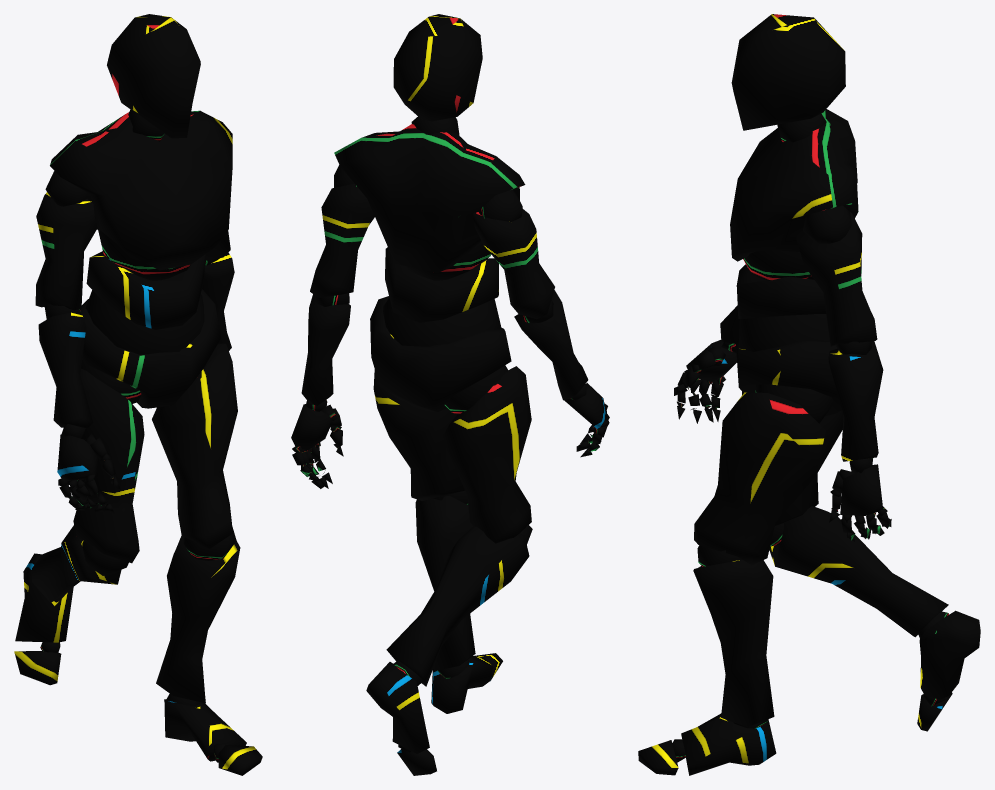
The model's file is y-bot-origin_000025.obj.
3 renders of one model, left to right at view 1: azimuth 30°, elevation 25°; view 2: azimuth 150°, elevation 25°; view 3: azimuth 270°, elevation 25°, orthographic. The views are drawn at different scales.
Parts seen in each view (by area): view 1: Alpha_Surface_Alpha_SurfaceMesh, Alpha_Joints_Alpha_JointsMesh; view 2: Alpha_Surface_Alpha_SurfaceMesh, Alpha_Joints_Alpha_JointsMesh; view 3: Alpha_Surface_Alpha_SurfaceMesh, Alpha_Joints_Alpha_JointsMesh.
Part boxes in pixels (left/top/right/bottom): Alpha_Surface_Alpha_SurfaceMesh: left=14, top=14, right=262, bottom=775; Alpha_Joints_Alpha_JointsMesh: left=40, top=109, right=236, bottom=762; Alpha_Surface_Alpha_SurfaceMesh: left=291, top=14, right=609, bottom=775; Alpha_Joints_Alpha_JointsMesh: left=292, top=116, right=609, bottom=752; Alpha_Surface_Alpha_SurfaceMesh: left=638, top=14, right=980, bottom=775; Alpha_Joints_Alpha_JointsMesh: left=672, top=113, right=948, bottom=762.
Bounding box in the file's own units: 0.6247 × 1.77 × 0.7429.
